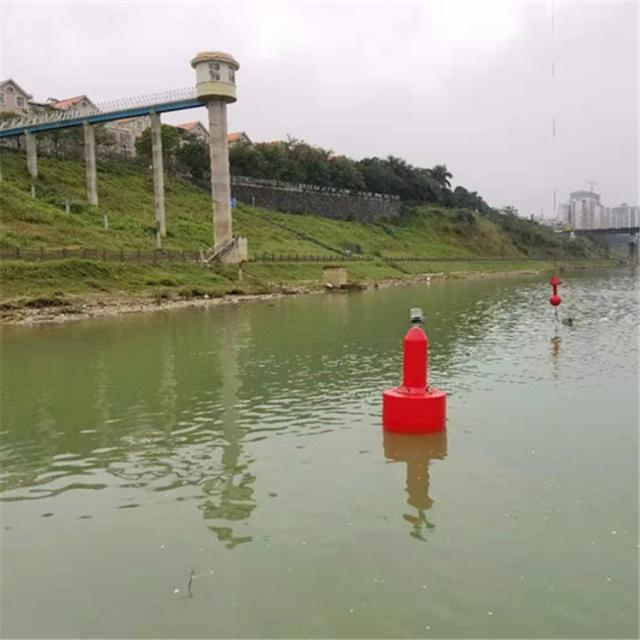buoy: (377, 303, 446, 432)
